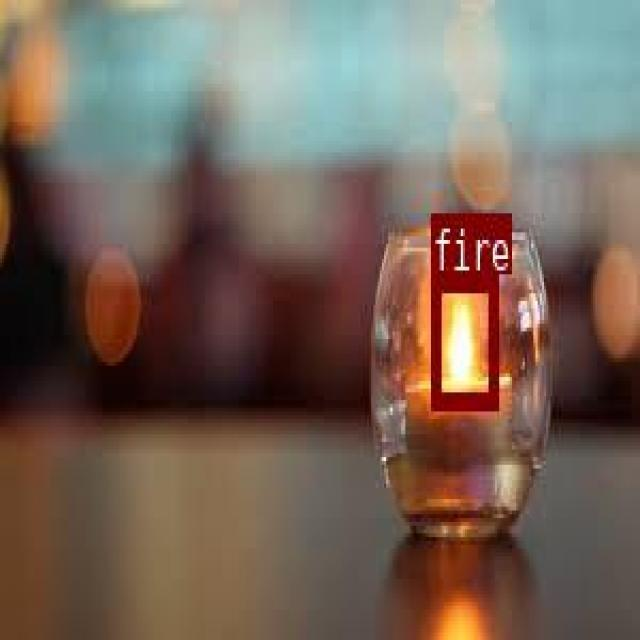fire: (431, 273, 497, 406)
